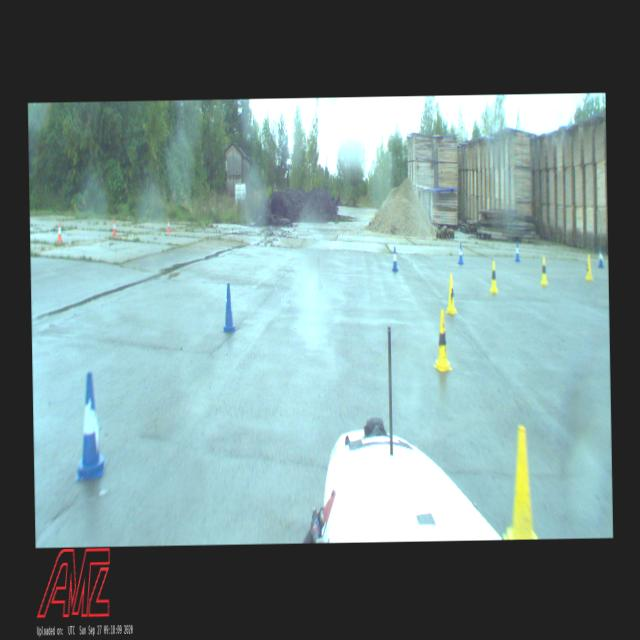blue_cone: (74, 373, 105, 482), (222, 284, 235, 332), (391, 246, 398, 271), (457, 242, 463, 264), (598, 246, 604, 268), (514, 242, 520, 262)
orange_cone: (56, 218, 62, 244), (112, 218, 116, 236), (167, 218, 170, 232)
yellow_cone: (502, 424, 538, 538), (432, 308, 452, 372), (444, 272, 456, 314), (488, 260, 498, 294), (540, 256, 548, 286), (585, 253, 592, 280)
